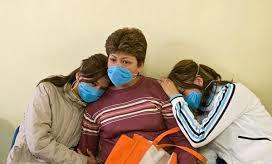OK: (79, 74, 108, 104), (110, 56, 138, 86), (175, 84, 203, 110)
